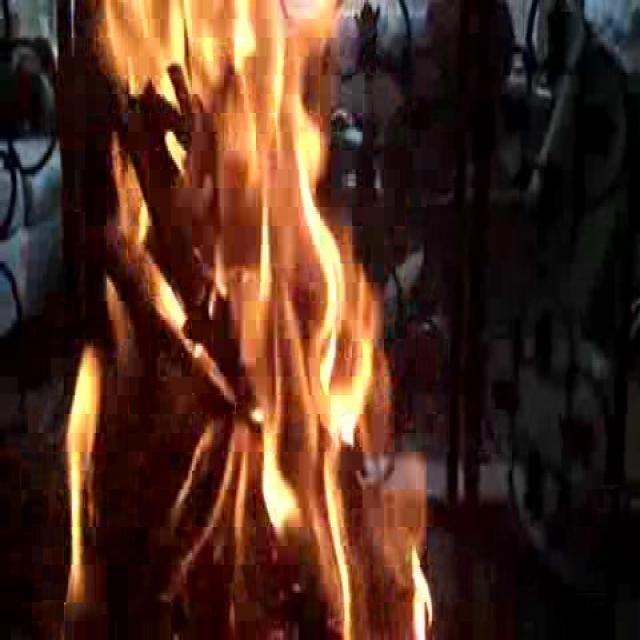fire: (68, 5, 405, 625)
